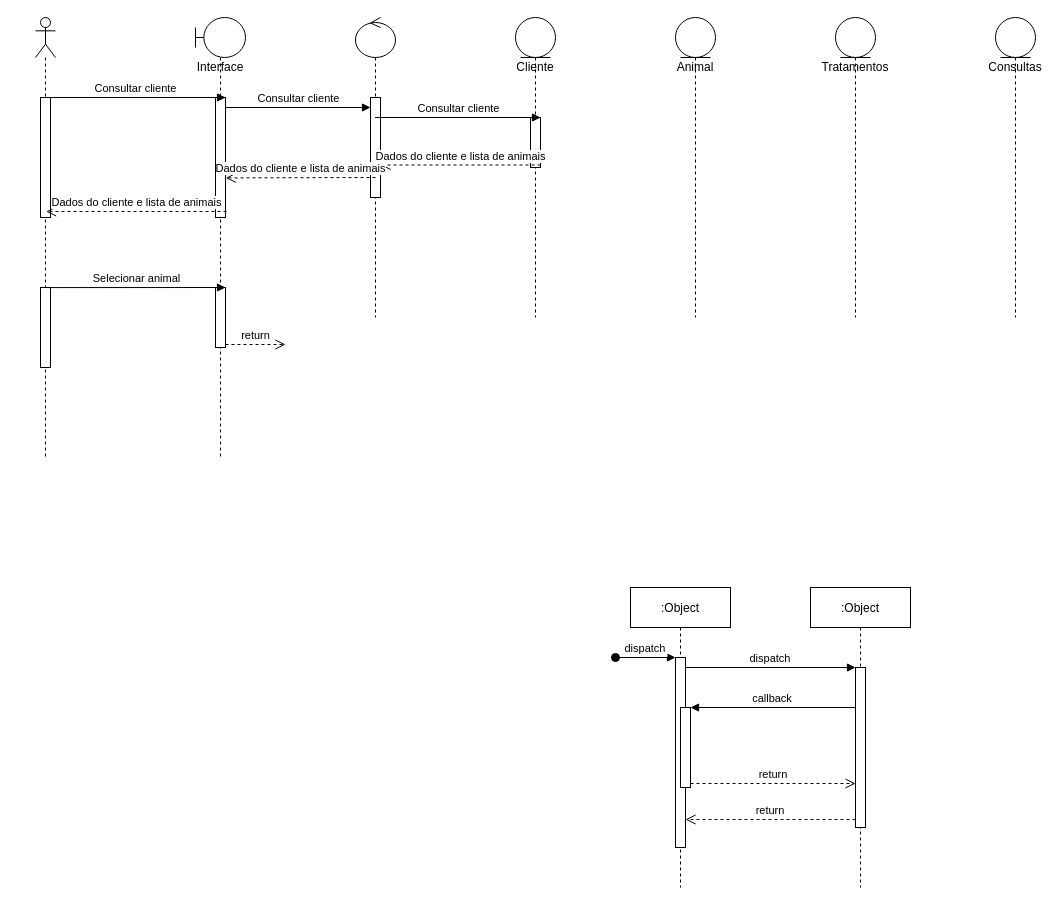
The diagram is 1059 pixels wide and 905 high, and some of its shapes have lost their labels. Here are the shapes that lost their labels. From the top down, the centre of each, then its label:
pixel 375 167: Sistema
pixel 45 237: Veterinário
